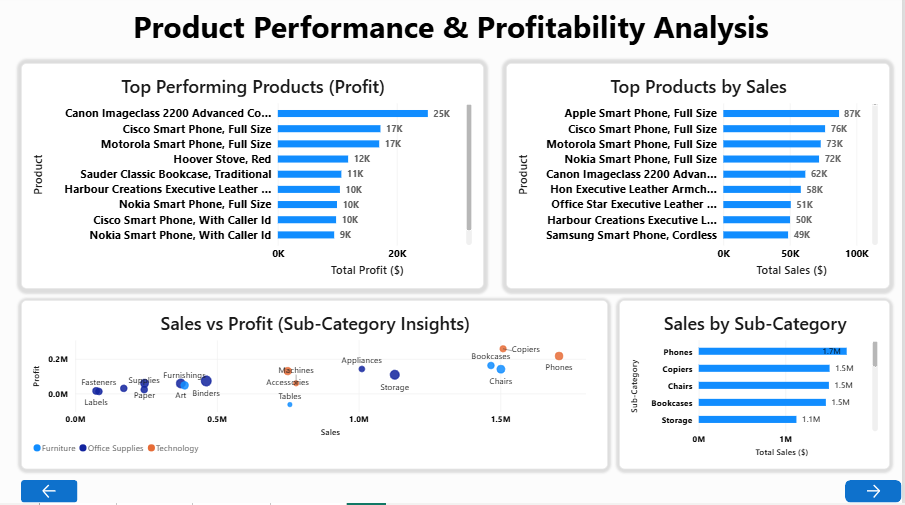

What the dashboard file says about the page in this screenshot:
{"tool":"powerbi","page":{"name":"Page 3","canvas":[1280,720],"ordinal":2},"visuals":[{"type":"barChart","title":"Sales by Sub-Category","fields":{"Category":["superstore data.sub_category"],"Y":["date tabel calender.total sales"]},"box":[880,432,384,240],"z":0},{"type":"barChart","title":"Top Performing Products (Profit)","fields":{"Category":["superstore data.product_name"],"Y":["date tabel calender.total profit"]},"box":[32,96,656,320],"z":1000},{"type":"barChart","title":"Top Products by Sales","fields":{"Category":["superstore data.product_name"],"Y":["date tabel calender.total sales"]},"box":[720,96,544,320],"z":2000},{"type":"scatterChart","title":"Sales vs Profit (Sub-Category Insights)","fields":{"Category":["superstore data.sub_category"],"Series":["superstore data.category"],"Size":["date tabel calender.total quanity"],"X":["date tabel calender.total sales"],"Y":["date tabel calender.total profit"]},"box":[32,432,832,240],"z":3000},{"type":"textbox","box":[192,16,1056,64],"z":4000},{"type":"actionButton","box":[1200,688,80,32],"z":5000},{"type":"actionButton","box":[32,688,80,32],"z":6000}]}

Visuals, with their boxes in screenshot pixels (x1, y1, x2, y2), scaled from the page's 1280x720 canvas onto the 905x505 screenshot:
"Sales by Sub-Category" barChart: crop(622, 303, 894, 471)
"Top Performing Products (Profit)" barChart: crop(23, 67, 486, 292)
"Top Products by Sales" barChart: crop(509, 67, 894, 292)
"Sales vs Profit (Sub-Category Insights)" scatterChart: crop(23, 303, 611, 471)
textbox: crop(136, 11, 882, 56)
actionButton: crop(848, 483, 904, 504)
actionButton: crop(23, 483, 79, 504)
